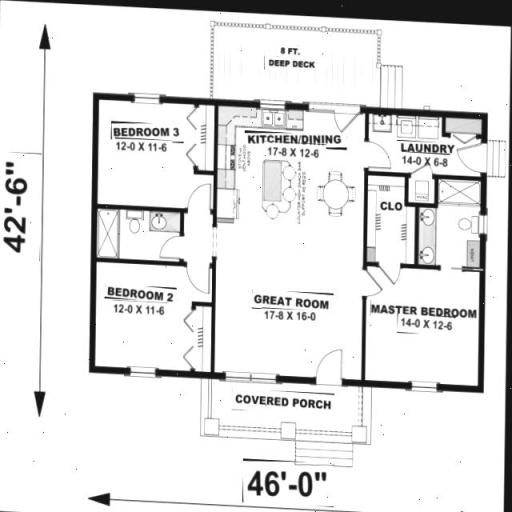bedroom: (362, 262, 482, 385), (98, 259, 204, 368), (105, 100, 200, 212)
hall: (222, 240, 362, 386)
kitchen: (216, 106, 354, 234)
laundary: (372, 120, 474, 178)
porch: (210, 27, 378, 110), (208, 387, 359, 440)
